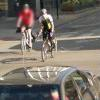Bicycle: (13, 26, 59, 65)
